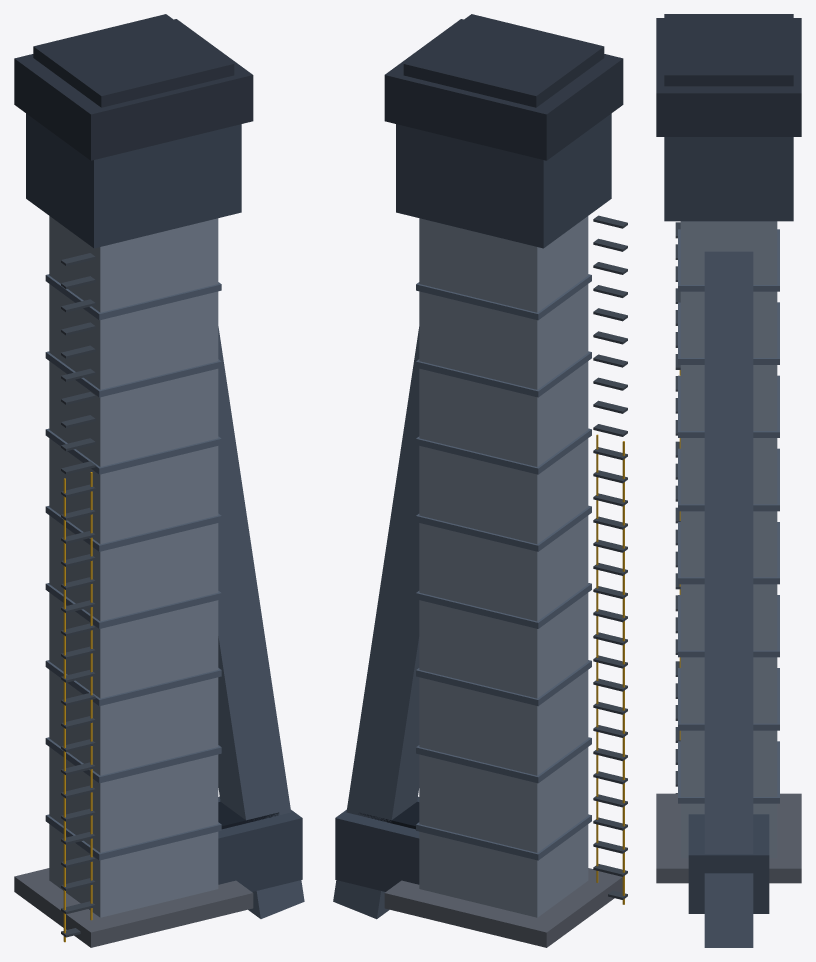
The model's file is grain-elevator-authored-body.glb.
The picture shows the model from 3 angles, left to right: view 1: azimuth 30°, elevation 25°; view 2: azimuth 150°, elevation 25°; view 3: azimuth 270°, elevation 25°; orthographic projection. The views are drawn at different scales.
Parts seen in each view (by area): view 1: Grain-elevator-authored-bodyBody; view 2: Grain-elevator-authored-bodyBody; view 3: Grain-elevator-authored-bodyBody.
Boxes of the visible parts, x1,y1,x2,y2 form: Grain-elevator-authored-bodyBody: [14, 14, 304, 947]; Grain-elevator-authored-bodyBody: [333, 14, 627, 947]; Grain-elevator-authored-bodyBody: [656, 14, 801, 947].
Size of the model in its own units: 17.22 by 57.19 by 9.
